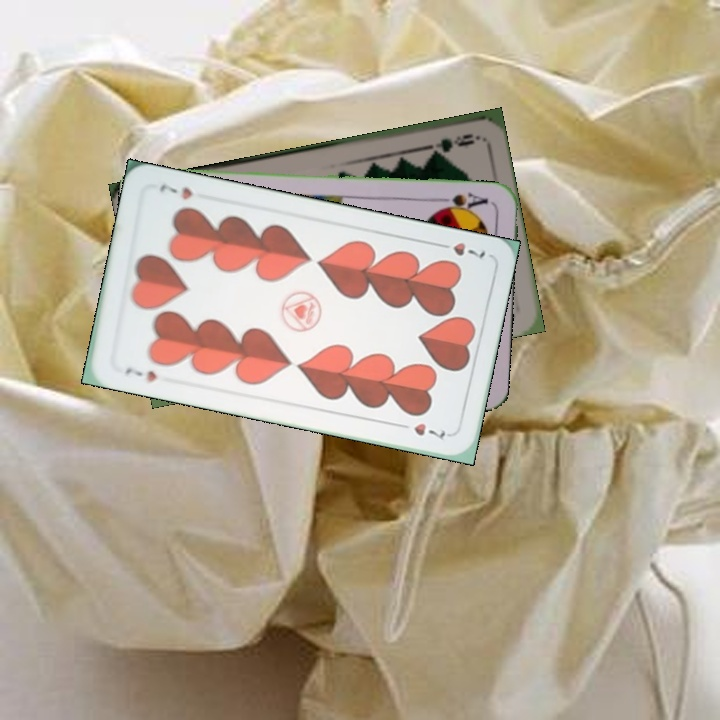G9: (422, 129, 481, 153)
H7: (432, 238, 488, 261), (121, 362, 159, 385)
SA: (434, 188, 490, 215)
